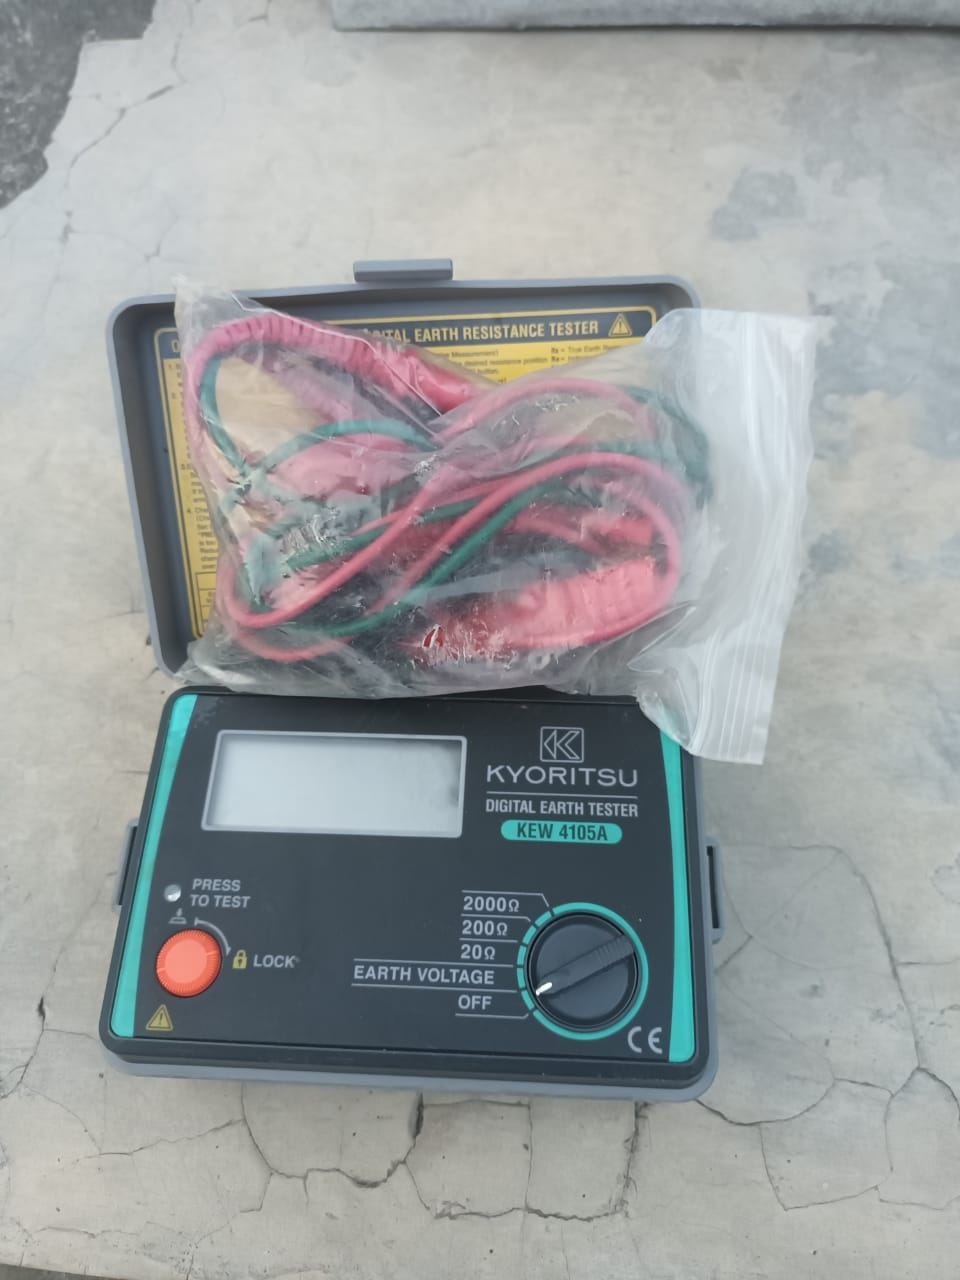EARTH_GROUNDING_TESTER: (94, 676, 726, 1108)
